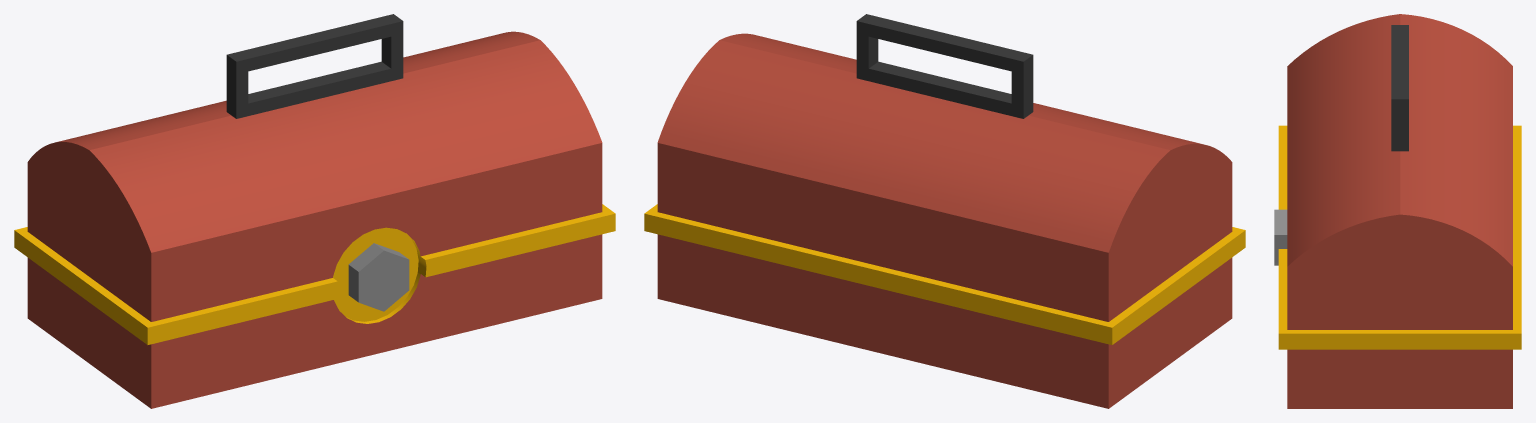
The model's file is Toolbox.fbx.
3 renders of one model, left to right at view 1: azimuth 30°, elevation 25°; view 2: azimuth 150°, elevation 25°; view 3: azimuth 270°, elevation 25°, orthographic. The views are drawn at different scales.
Parts seen in each view (by area): view 1: Group1; view 2: Group1; view 3: Group1.
Part boxes in pixels (left/top/right/bottom): Group1: left=14, top=14, right=615, bottom=408; Group1: left=644, top=14, right=1245, bottom=408; Group1: left=1274, top=14, right=1521, bottom=408.
Bounding box in the file's own units: 56.06 × 31 × 28.19.
